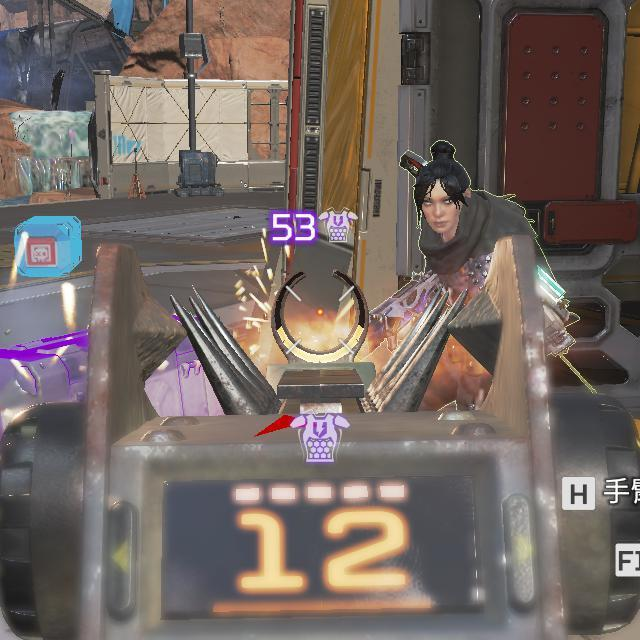avatar: (411, 141, 529, 270)
